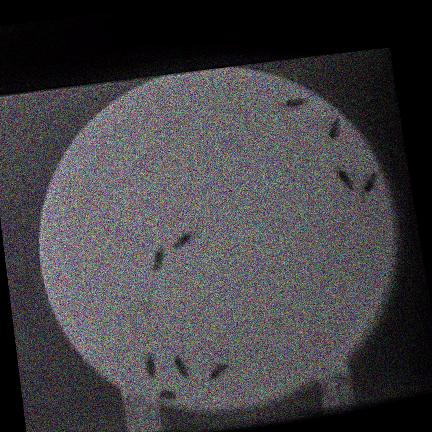fly: (335, 166, 355, 190), (360, 172, 377, 196), (174, 230, 193, 248), (209, 362, 228, 379), (174, 356, 188, 378), (153, 245, 165, 270), (144, 353, 156, 378), (282, 97, 308, 107), (329, 118, 340, 138), (158, 389, 175, 400)
